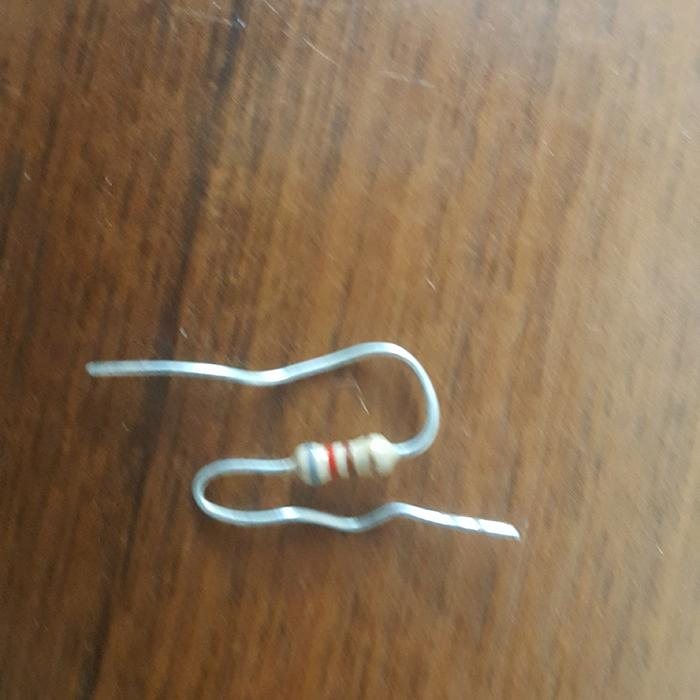resistor: (291, 432, 399, 485)
